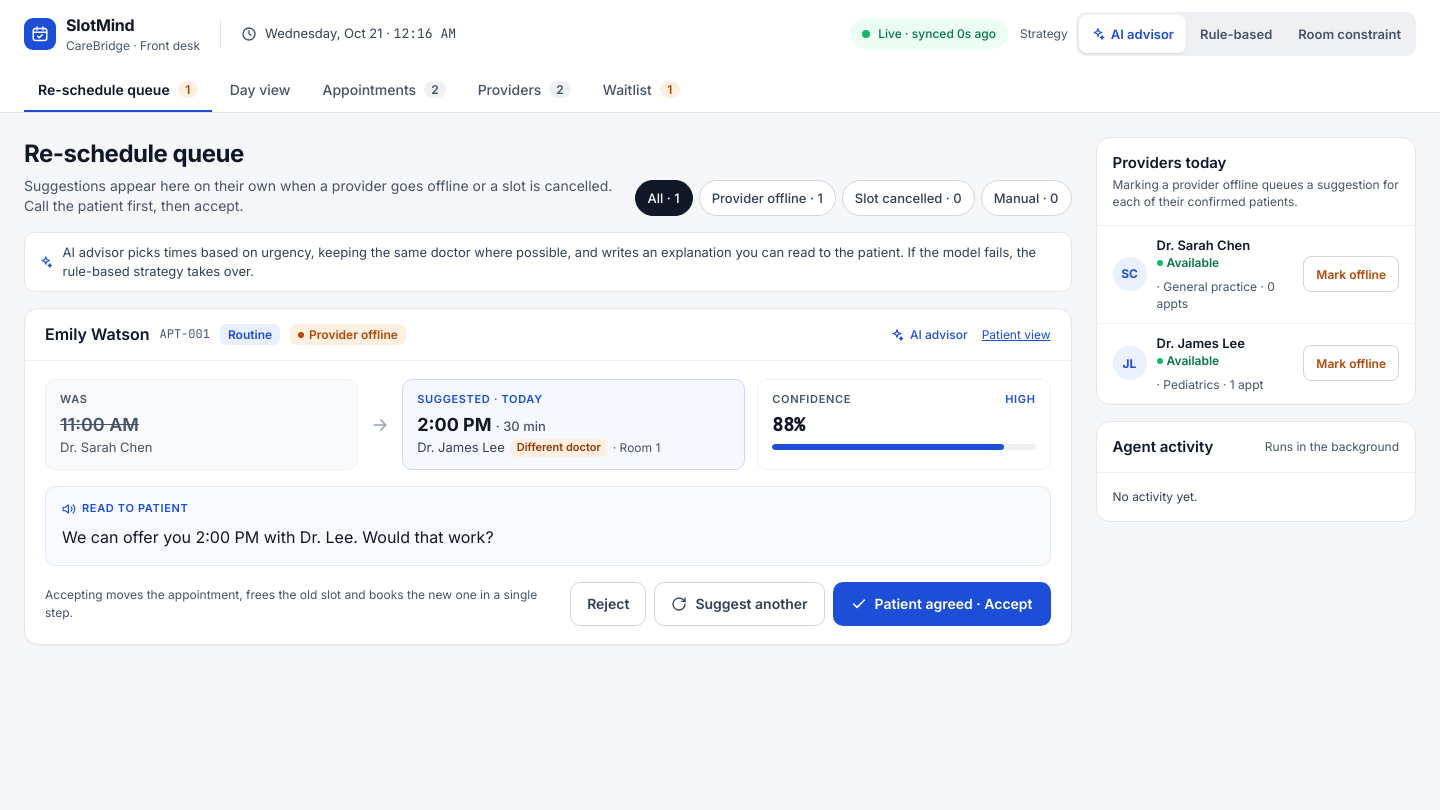
Test: Desk shell › shows the error banner when polling fails, keeps data, and Retry recovers
Expected: the element "Emily Watson" is shown, [24,308,1072,645]
Click the button with aria-label "Mark Dr. Sarah Chen offline".
click(1351, 274)  # box [1303,256,1399,292]
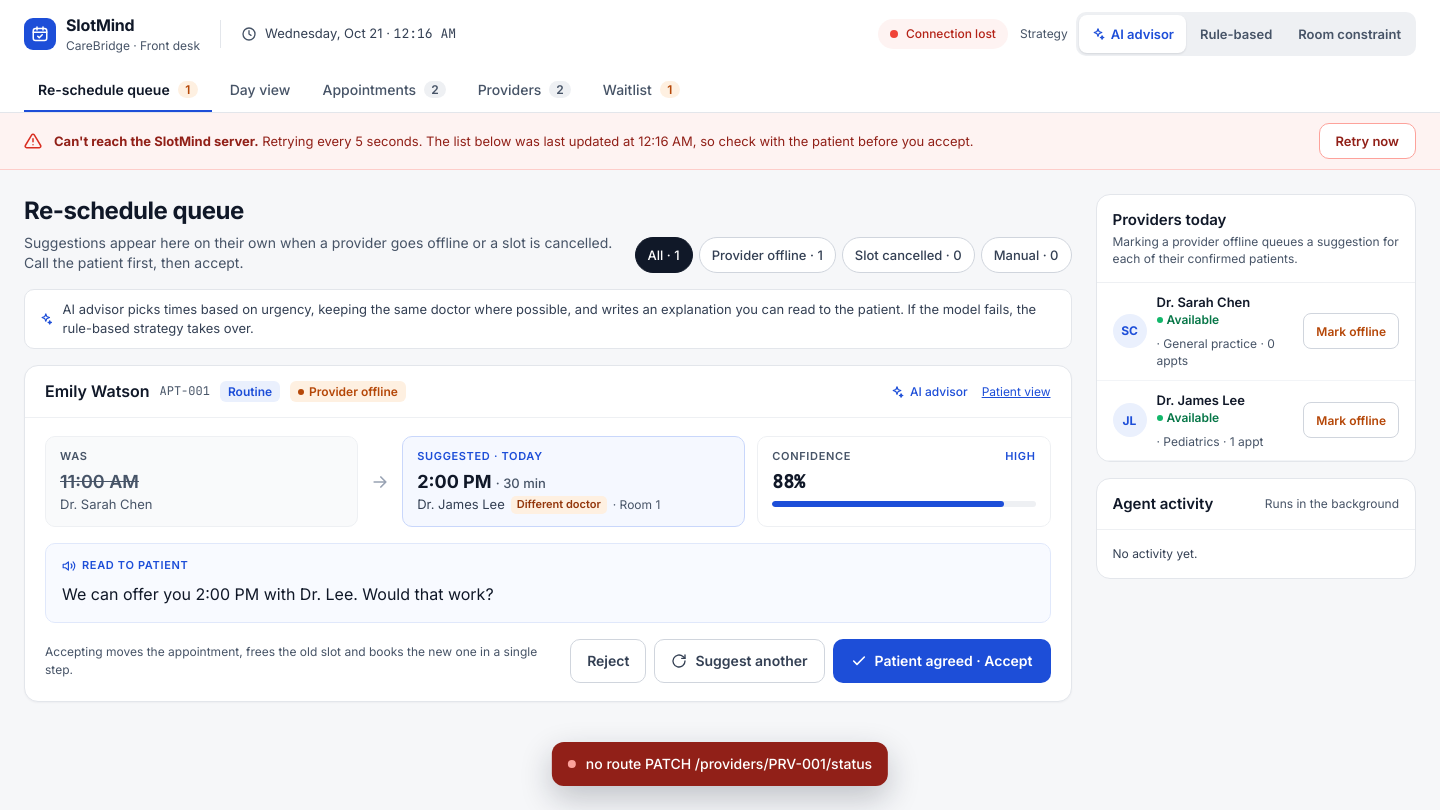
Expected: the message that starts with "Can't reach the SlotMind server." is shown, [54,133,259,149]
Expected: the message that starts with "Can't reach the SlotMind server." shows "The list below was last updated at", [422,133,974,149]
Expected: the text "Connection lost" is shown, [906,25,996,43]
Click the button "Retry now".
click(1367, 141)  # box [1318,123,1416,159]
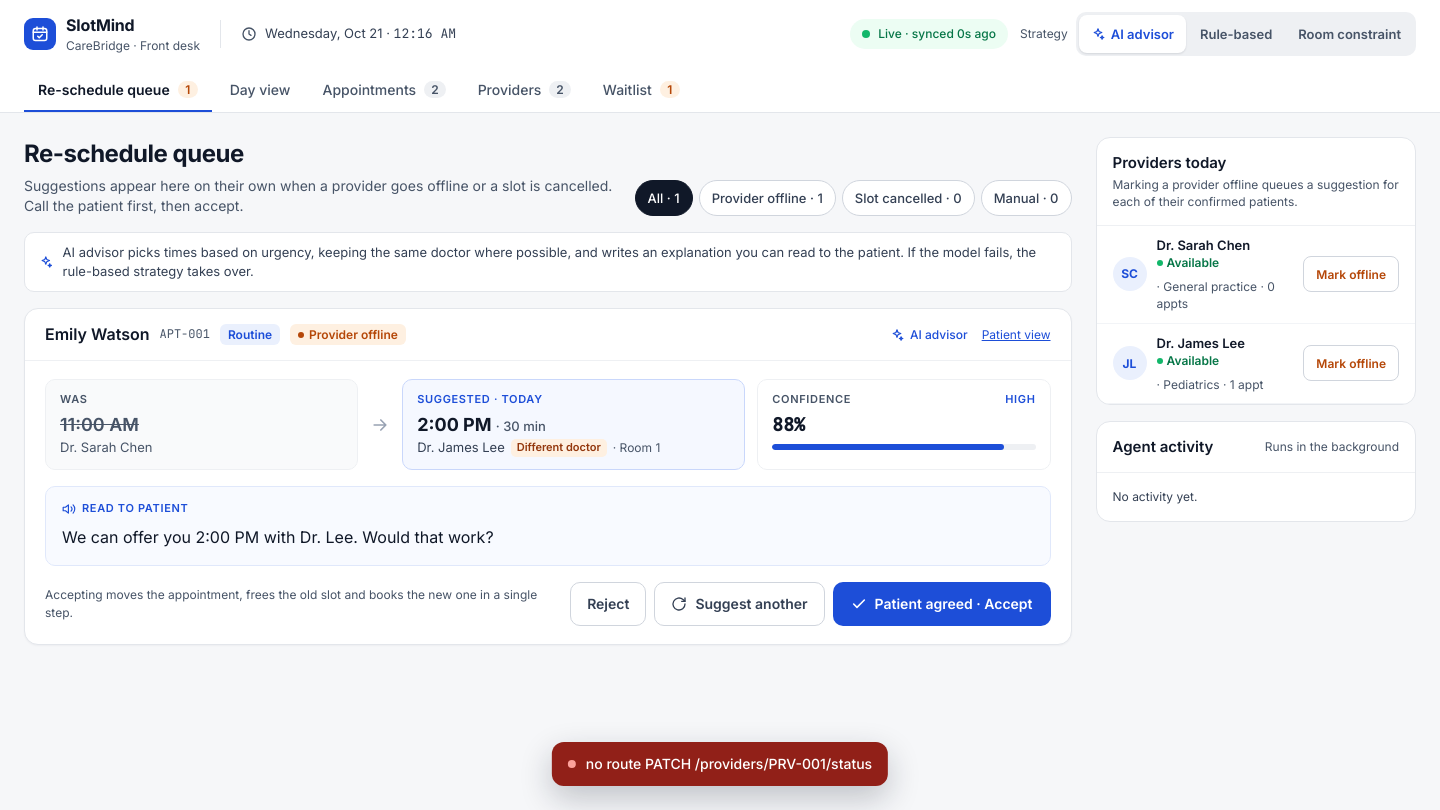
Expected: the text "Can't reach the SlotMind server." is gone
